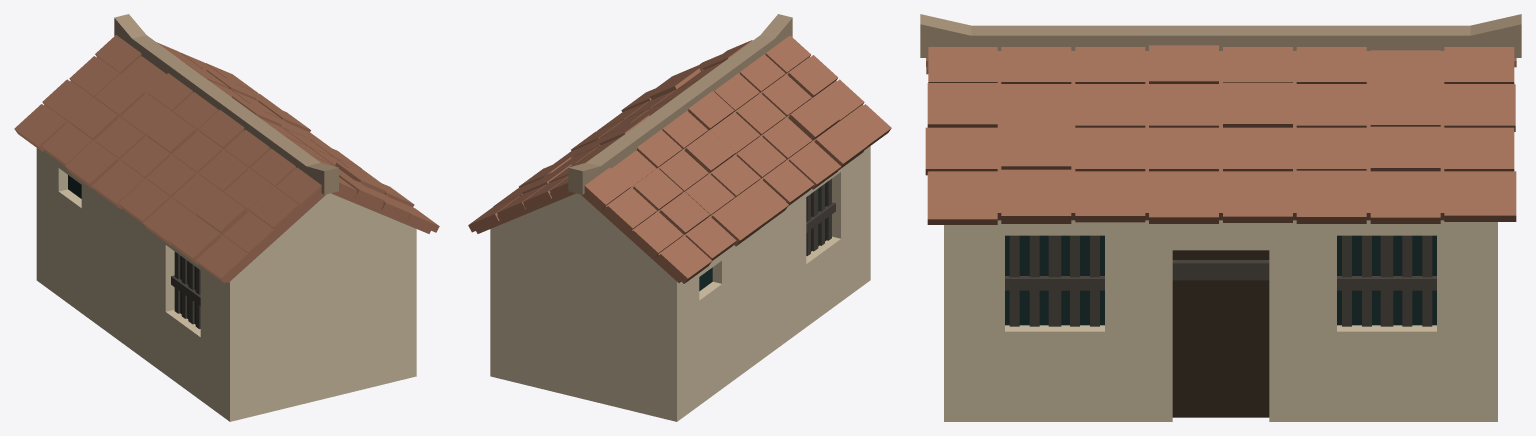
File: Building_mode_L2_Northhouse021.fbx
The picture shows the model from 3 angles, left to right: view 1: azimuth 30°, elevation 25°; view 2: azimuth 150°, elevation 25°; view 3: azimuth 270°, elevation 25°; orthographic projection. The views are drawn at different scales.
Parts seen in each view (by area): view 1: Building_mode_L2_Northhouse021; view 2: Building_mode_L2_Northhouse021; view 3: Building_mode_L2_Northhouse021.
Part boxes in pixels (x1,y1,x2,y2): Building_mode_L2_Northhouse021: (14, 14, 439, 421); Building_mode_L2_Northhouse021: (468, 14, 891, 421); Building_mode_L2_Northhouse021: (920, 14, 1521, 421).
Size of the model in its own units: 2.89 by 2.93 by 4.73.
